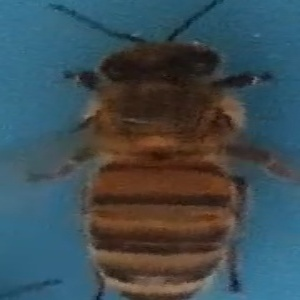bee: (17, 5, 285, 300)
